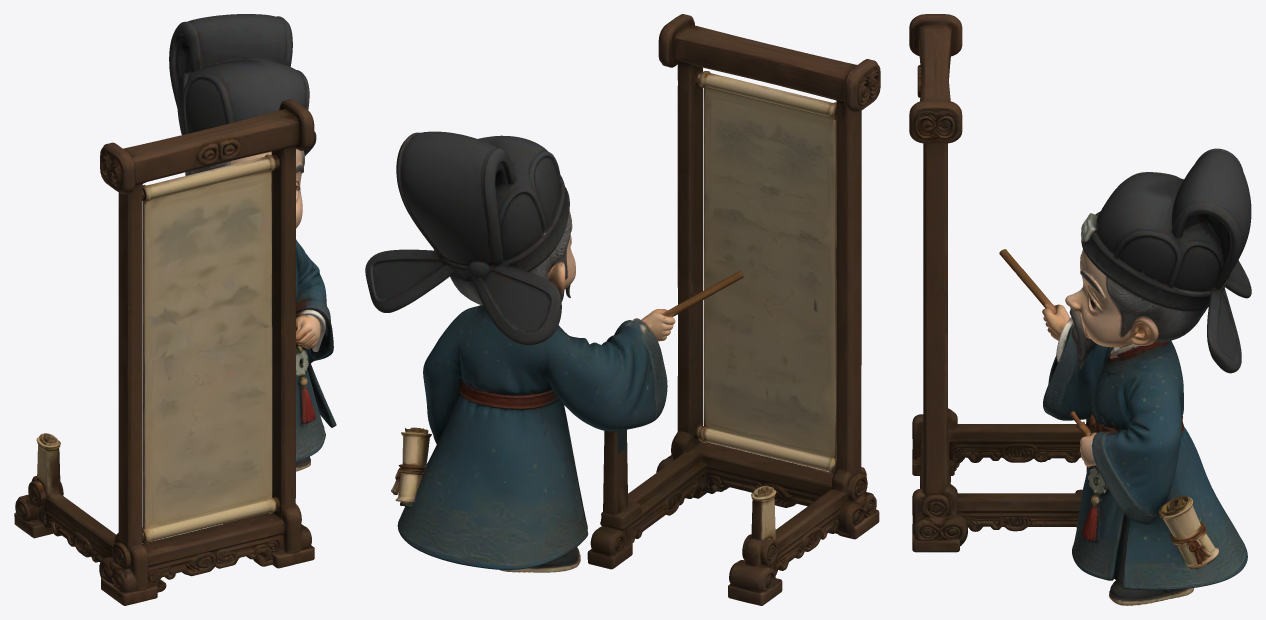
File: point-map.glb
The picture shows the model from 3 angles, left to right: view 1: azimuth 30°, elevation 25°; view 2: azimuth 150°, elevation 25°; view 3: azimuth 270°, elevation 25°; orthographic projection. The views are drawn at different scales.
Visible parts, largest first — view 1: node_0; view 2: node_0; view 3: node_0.
Part boxes in pixels (x1,y1,x2,y2): node_0: (14,14,336,605); node_0: (365,14,880,605); node_0: (909,14,1251,605).
Bounding box in the file's own units: 0.6764 × 0.8473 × 0.5812.
Materials: 1 (1 with a texture image).
